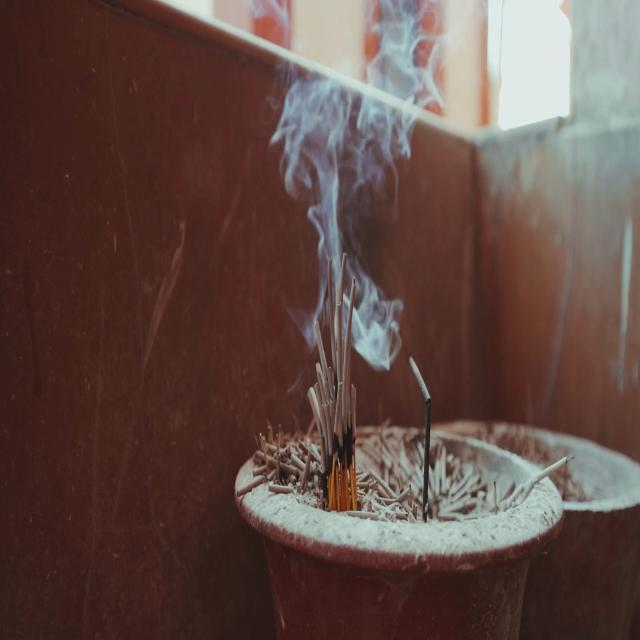fire: (266, 0, 454, 372)
